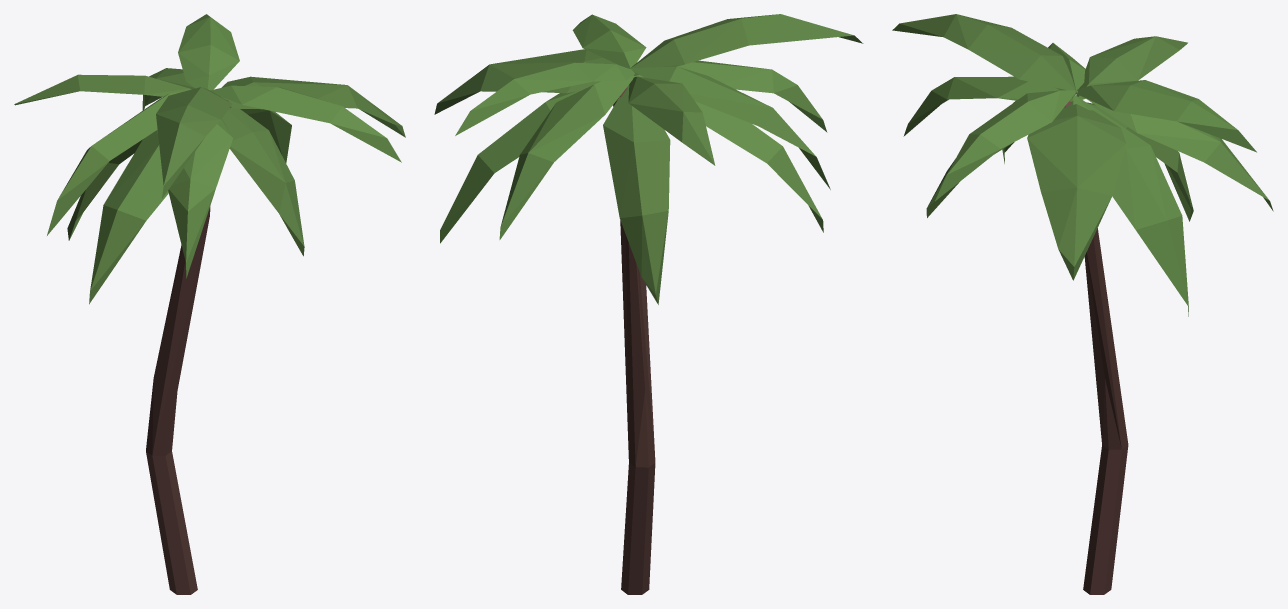
File: palm-straight.glb
The picture shows the model from 3 angles, left to right: view 1: azimuth 30°, elevation 25°; view 2: azimuth 150°, elevation 25°; view 3: azimuth 270°, elevation 25°; orthographic projection.
Parts seen in each view (by area): view 1: model; view 2: model; view 3: model.
Boxes of the visible parts, x1,y1,x2,y2 form: model: (14, 14, 405, 594); model: (434, 14, 863, 594); model: (892, 14, 1273, 594).
Size of the model in its own units: 0.7323 by 1 by 0.64.
